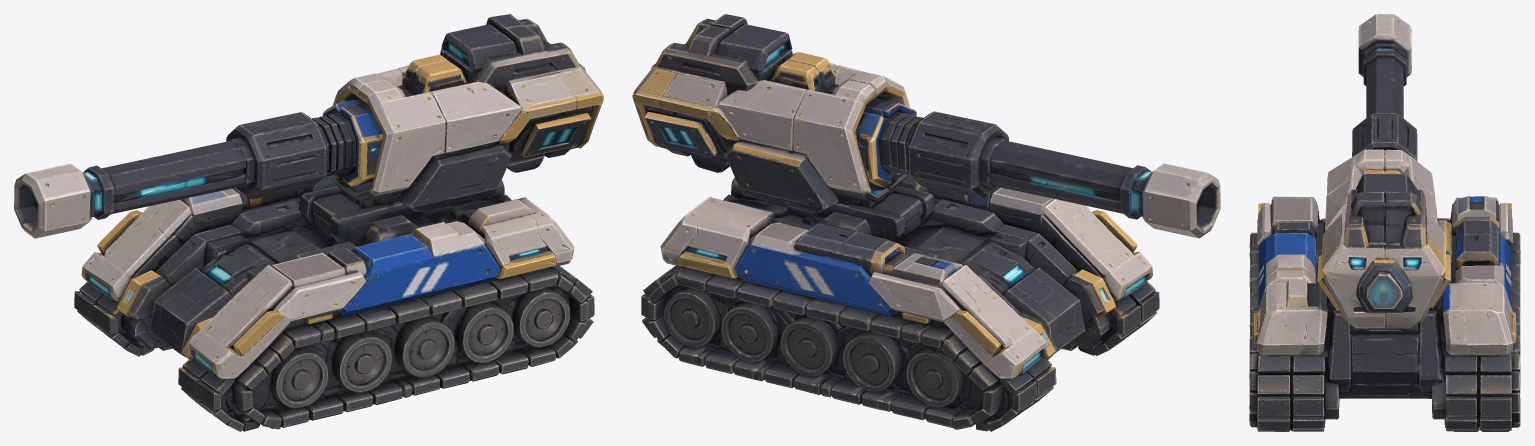
Rendered from drone-blue-siege.glb.
3 views of the same model, side by side, from view 1: azimuth 30°, elevation 25°; view 2: azimuth 150°, elevation 25°; view 3: azimuth 270°, elevation 25° (orthographic). The views are drawn at different scales.
Size of the model in its own units: 5.25 by 2.5 by 2.47.
1 material, 1 textured.
